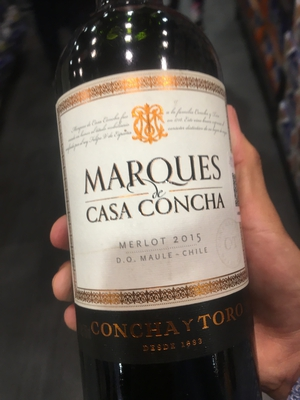marques de casa concha merlot: (56, 16, 265, 390)
